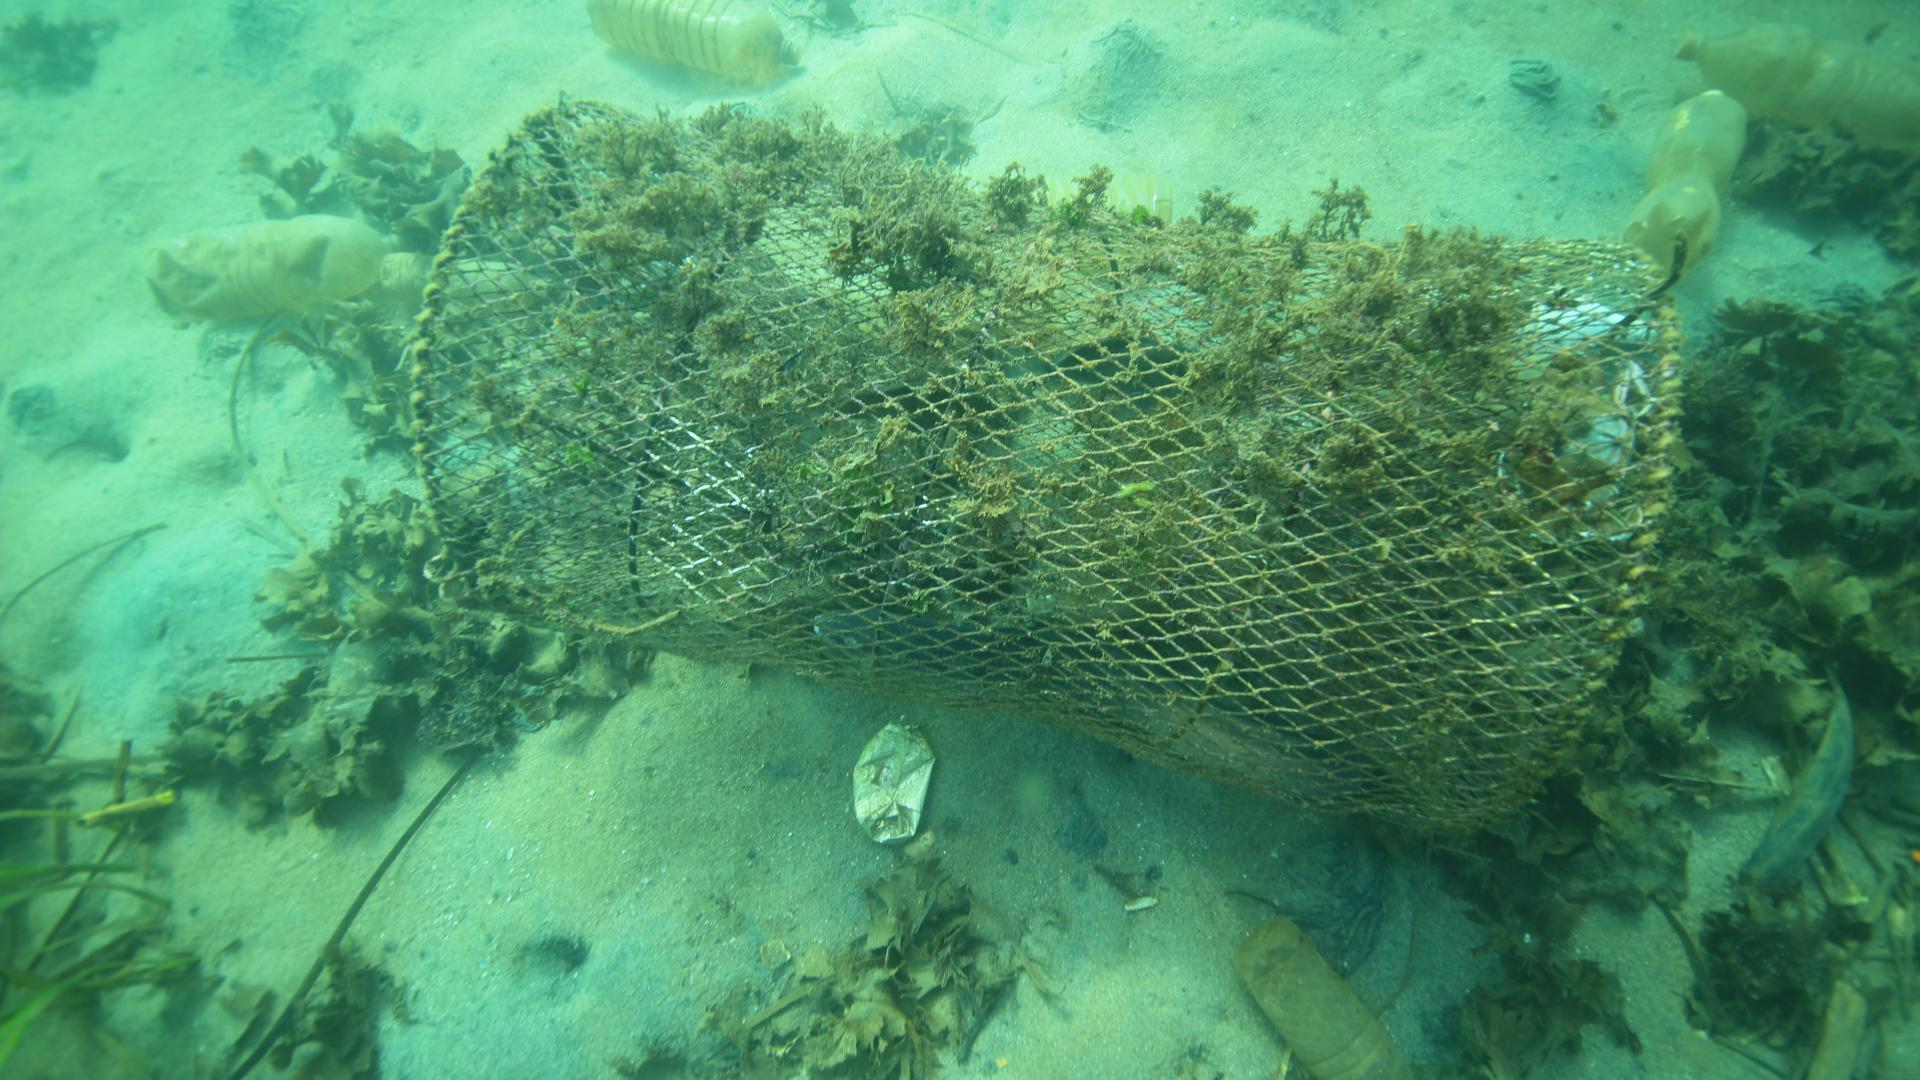spring fish trap: (407, 103, 1687, 832)
